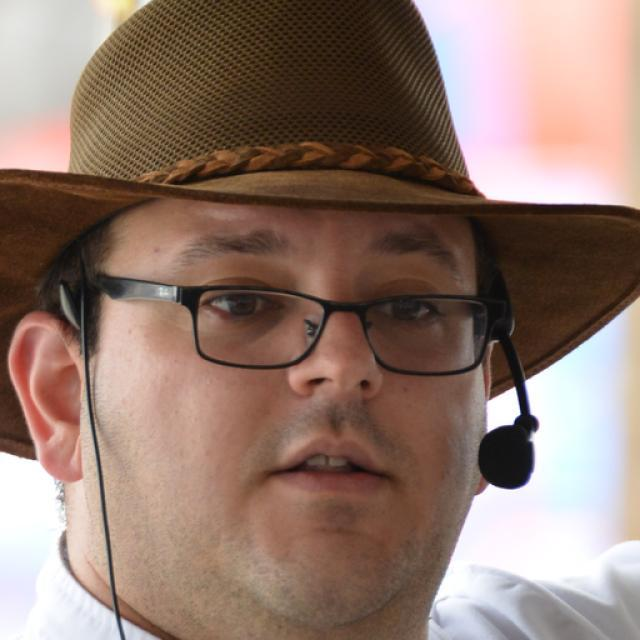surprise: (84, 172, 486, 632)
